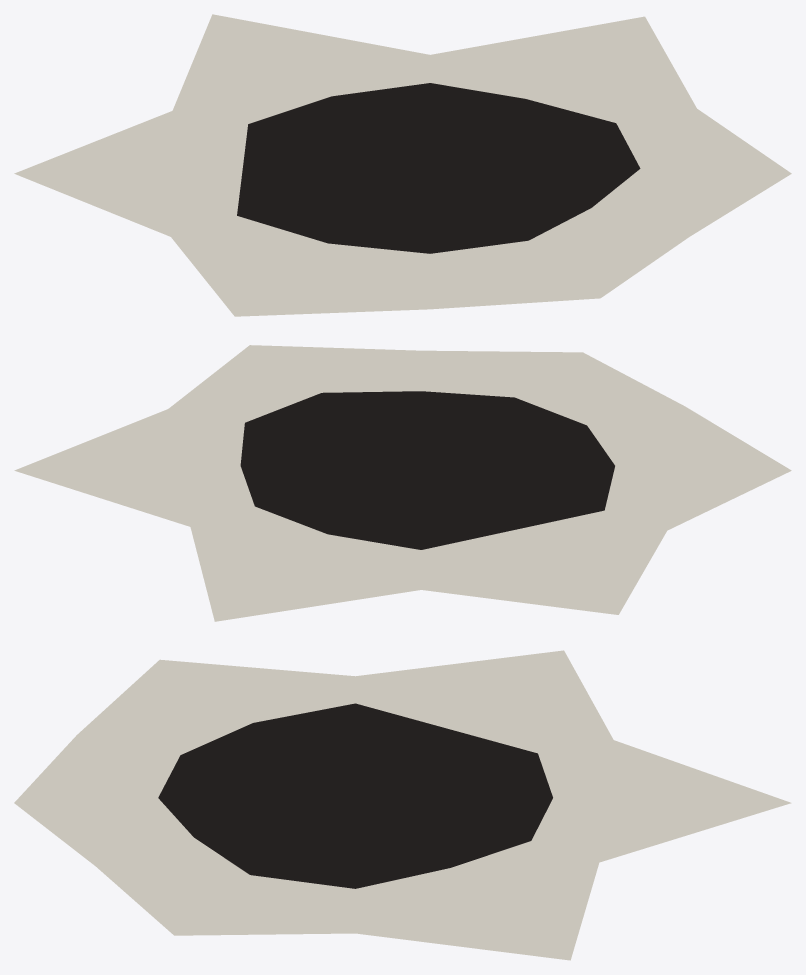
File: hole_wall_00.obj
3 renders of one model, top to bottom at view 1: azimuth 30°, elevation 25°; view 2: azimuth 150°, elevation 25°; view 3: azimuth 270°, elevation 25°, orthographic. The views are drawn at different scales.
Size of the model in its own units: 0.0523 by 0.0004 by 0.0554.
